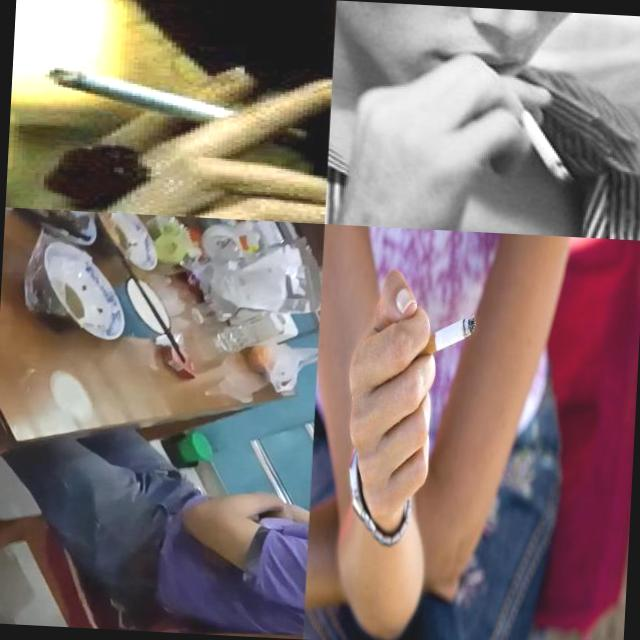cigarette: (43, 65, 311, 144), (506, 92, 574, 179), (402, 311, 477, 367)
